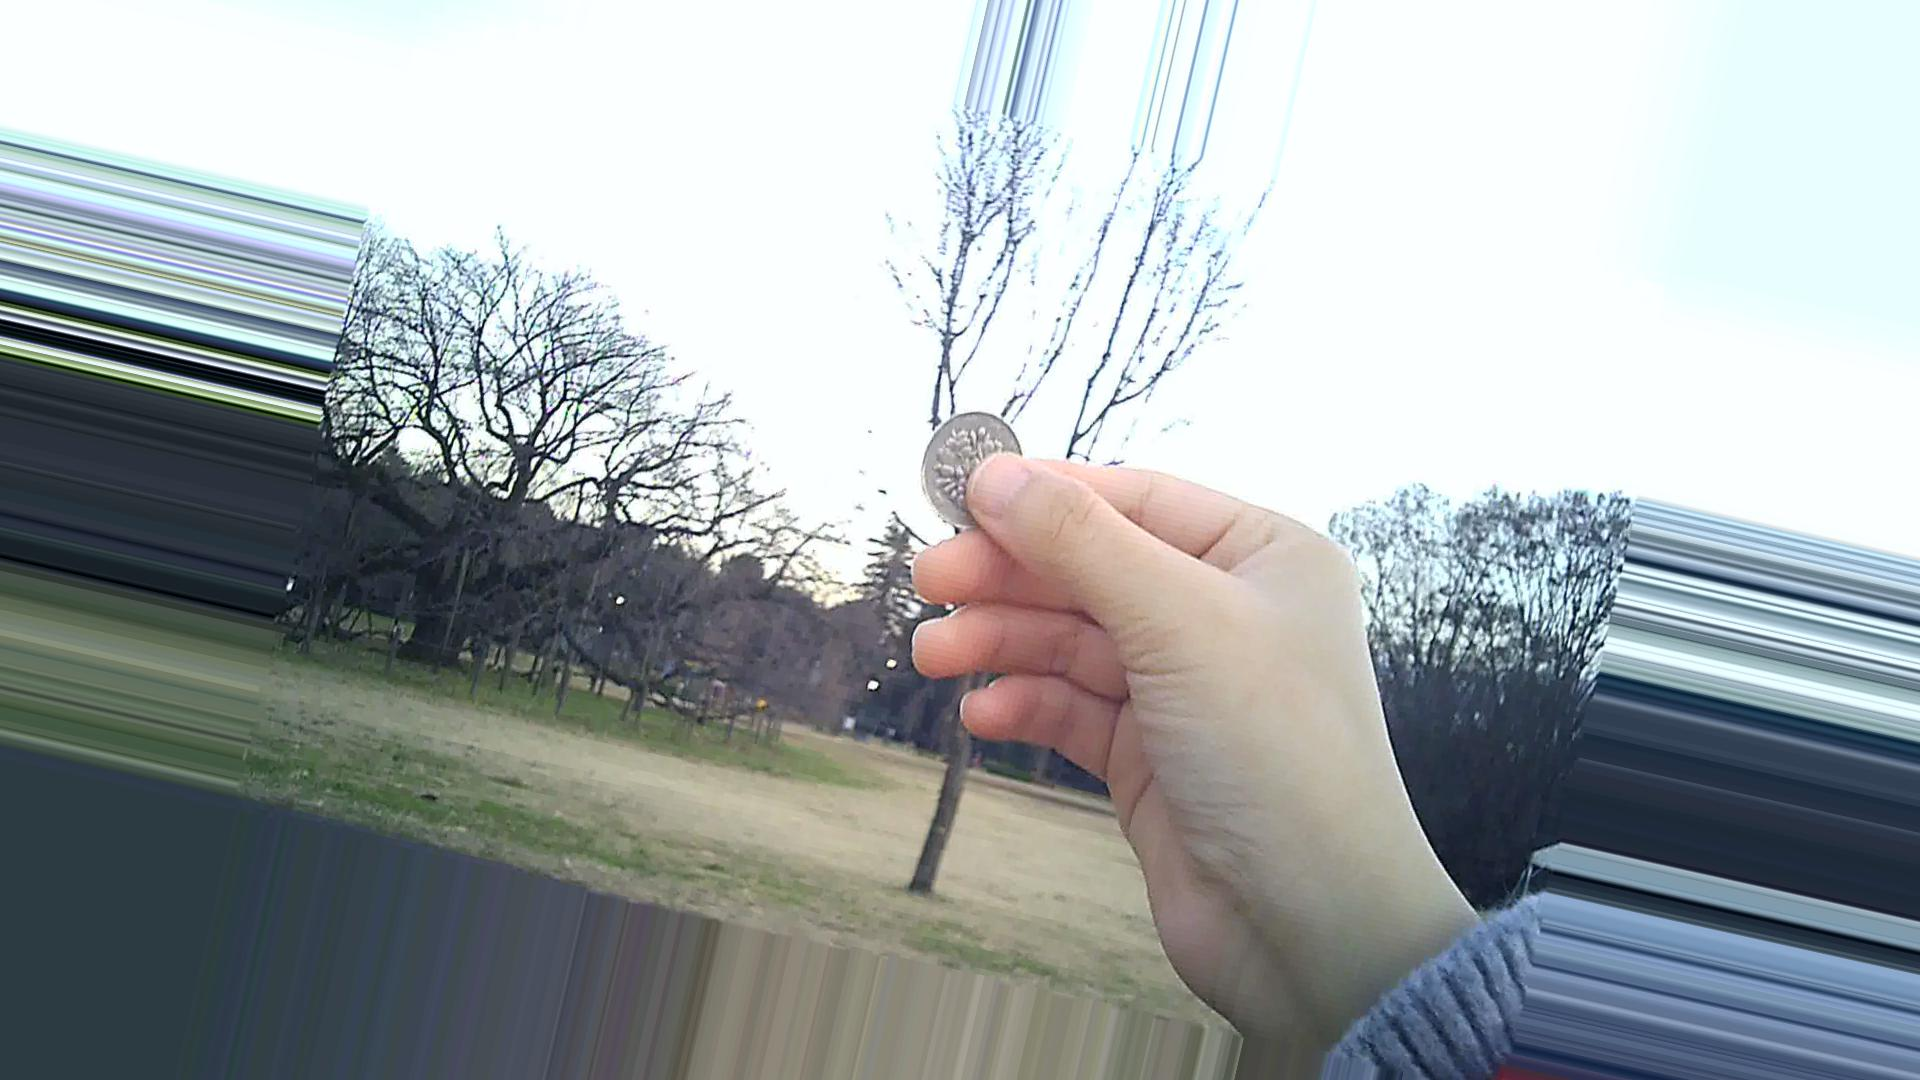100 Yen: (919, 397, 1040, 530)
